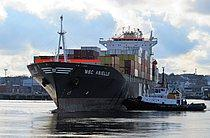Ship: (30, 15, 172, 115)
